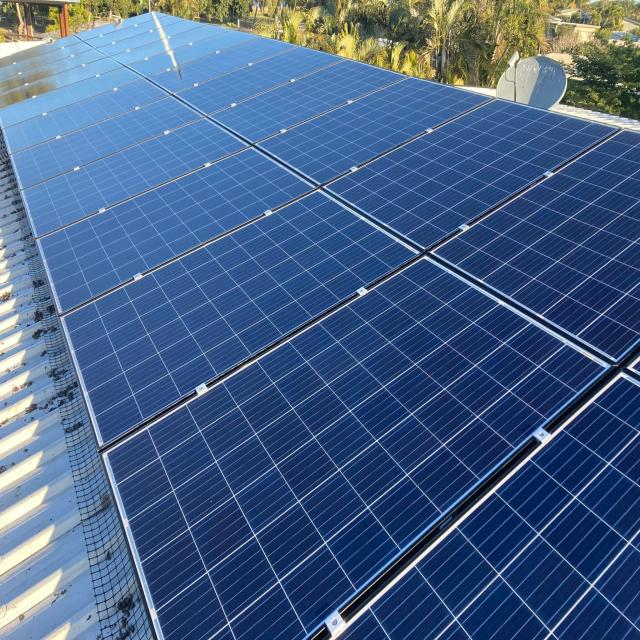clean-solar-panel: (109, 260, 605, 638)
